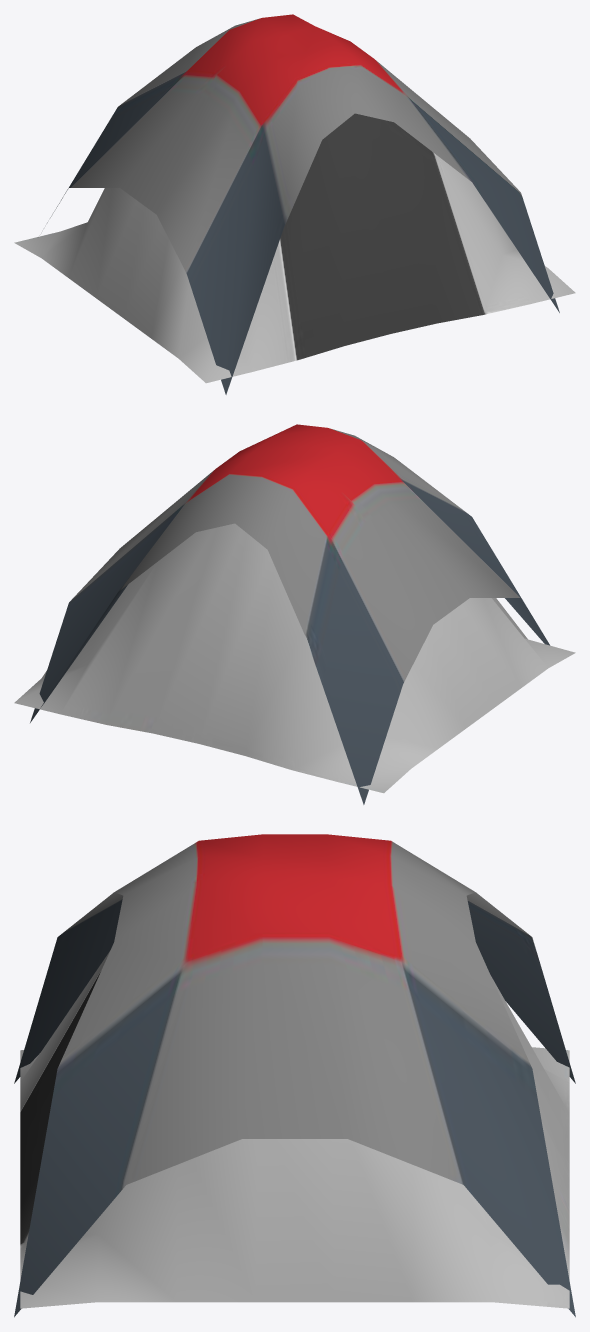
The model's file is Tent.FBX.
The picture shows the model from 3 angles, top to bottom: view 1: azimuth 30°, elevation 25°; view 2: azimuth 150°, elevation 25°; view 3: azimuth 270°, elevation 25°; orthographic projection. The views are drawn at different scales.
Parts seen in each view (by area): view 1: tent; view 2: tent; view 3: tent.
Part boxes in pixels (bbox=[...]): tent: bbox=[14, 14, 575, 394]; tent: bbox=[14, 424, 575, 804]; tent: bbox=[14, 834, 575, 1317].
Size of the model in its own units: 609 by 379 by 560.
